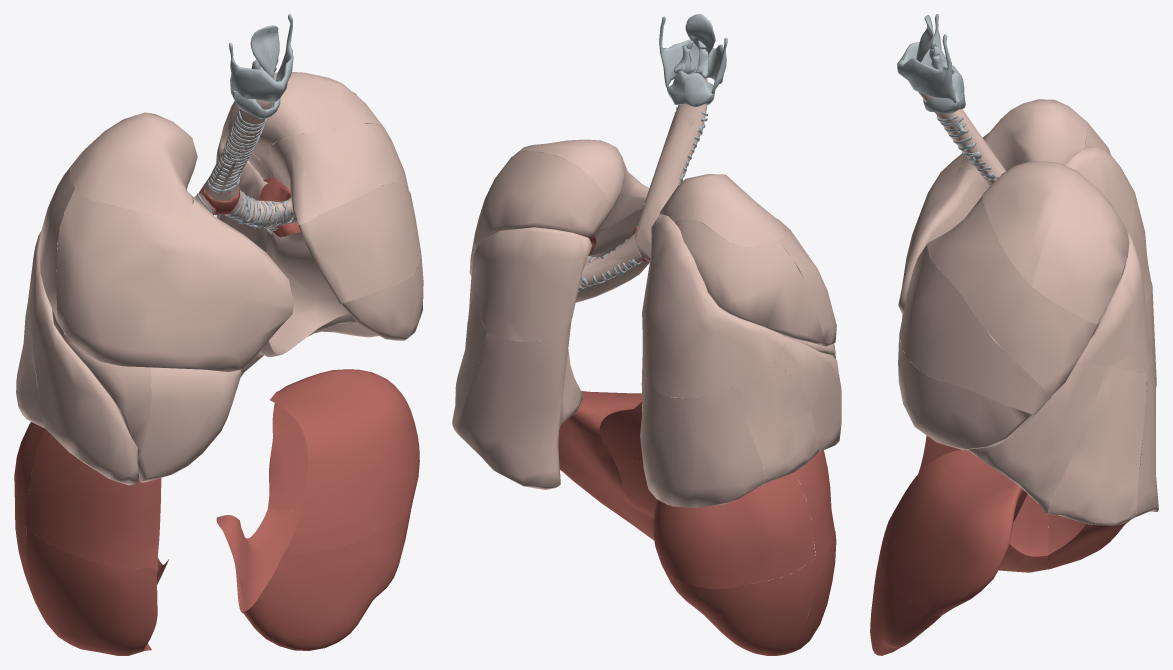
The model's file is adult_female.respiratory.LOD2.glb.
The picture shows the model from 3 angles, left to right: view 1: azimuth 30°, elevation 25°; view 2: azimuth 150°, elevation 25°; view 3: azimuth 270°, elevation 25°; orthographic projection. The views are drawn at different scales.
Visible parts, largest first — view 1: ADULT.FEMALE.RESPIRATORY.ANTERIOR_BRONCHOPULMONARY_SEGM.R, ADULT.FEMALE.RESPIRATORY.SUPEROMEDIAL_SEGMENT.L, ADULT.FEMALE.RESPIRATORY.ANTEROLATERAL_SEGMENT.L, ADULT.FEMALE.RESPIRATORY.ANTEROSUPERIOR_SEGMENT.R, ADULT.FEMALE.RESPIRATORY.ANTEROINFERIOR_SEGMENT.R, ADULT.FEMALE.RESPIRATORY.ANTERIOR_BASAL_BRONCHOPULMONARY_SEG, ADULT.FEMALE.RESPIRATORY.LINGULA_SUPERIOR_BRONCHOPULMONARY_S, ADULT.FEMALE.RESPIRATORY.APICAL_BRONCHOPULMONARY_SEGMENT.R, ADULT.FEMALE.RESPIRATORY.ANTERIOR_BRONCHOPULMONARY_SEGMENT.L, ADULT.FEMALE.RESPIRATORY.MEDIAL_BRONCHOPULMONARY_SEGMENT.R, ADULT.FEMALE.RESPIRATORY.APICAL_BRONCHOPULMONARY_SEGMENT.L, ADULT.FEMALE.RESPIRATORY.MEDIAL_BASAL_BRONCHOPULMONARY_SEGME (+16 smaller); view 2: ADULT.FEMALE.RESPIRATORY.POSTERIOR_BASAL_BRONCHOPULMONARY_SE (×2), ADULT.FEMALE.RESPIRATORY.POSTERIOR_BRONCHOPULMONARY_SEGMENT. (×2), ADULT.FEMALE.RESPIRATORY.SUPERIOR_BRONCHOPULMONARY_SEGMENT.R, ADULT.FEMALE.RESPIRATORY.POSTEROSUPERIOR_SEGMENT.R, ADULT.FEMALE.RESPIRATORY.SUPERIOR_BRONCHOPULMONARY_SEGMENT.L, ADULT.FEMALE.RESPIRATORY.LATERAL_BASAL_BRONCHOPULMONARY_SEGM (×2), ADULT.FEMALE.RESPIRATORY.POSTEROINFERIOR_SEGMENT.R, ADULT.FEMALE.RESPIRATORY.SUPEROMEDIAL_SEGMENT.L, ADULT.FEMALE.RESPIRATORY.APICAL_BRONCHOPULMONARY_SEGMENT.R, ADULT.FEMALE.RESPIRATORY.ANTERIOR_BASAL_BRONCHOPULMONARY_SEG, ADULT.FEMALE.RESPIRATORY.TRACHEA, ADULT.FEMALE.RESPIRATORY.ANTEROLATERAL_SEGMENT.L (+11 smaller); view 3: ADULT.FEMALE.RESPIRATORY.SUPEROMEDIAL_SEGMENT.L, ADULT.FEMALE.RESPIRATORY.ANTERIOR_BRONCHOPULMONARY_SEGMENT.L, ADULT.FEMALE.RESPIRATORY.LINGULA_SUPERIOR_BRONCHOPULMONARY_S, ADULT.FEMALE.RESPIRATORY.LATERAL_BASAL_BRONCHOPULMONARY_SEGM, ADULT.FEMALE.RESPIRATORY.POSTERIOR_BRONCHOPULMONARY_SEGMENT., ADULT.FEMALE.RESPIRATORY.ANTERIOR_BASAL_BRONCHOPULMONARY_SEG, ADULT.FEMALE.RESPIRATORY.LINGULA_INFERIOR_BRONCHOPULMONARY_S, ADULT.FEMALE.RESPIRATORY.APICAL_BRONCHOPULMONARY_SEGMENT.L, ADULT.FEMALE.RESPIRATORY.APICAL_BRONCHOPULMONARY_SEGMENT.R, ADULT.FEMALE.RESPIRATORY.SUPERIOR_BRONCHOPULMONARY_SEGMENT.L, ADULT.FEMALE.RESPIRATORY.ANTERIOR_BRONCHOPULMONARY_SEGM.R, ADULT.FEMALE.RESPIRATORY.SUPERIOR_BRONCHOPULMONARY_SEGMENT.R (+10 smaller).
Part boxes in pixels (x1=…): ADULT.FEMALE.RESPIRATORY.ANTERIOR_BRONCHOPULMONARY_SEGM.R: x1=56, y1=188, x2=293, y2=371; ADULT.FEMALE.RESPIRATORY.SUPEROMEDIAL_SEGMENT.L: x1=267, y1=369, x2=419, y2=553; ADULT.FEMALE.RESPIRATORY.ANTEROLATERAL_SEGMENT.L: x1=216, y1=509, x2=410, y2=650; ADULT.FEMALE.RESPIRATORY.ANTEROSUPERIOR_SEGMENT.R: x1=26, y1=429, x2=161, y2=568; ADULT.FEMALE.RESPIRATORY.ANTEROINFERIOR_SEGMENT.R: x1=26, y1=527, x2=168, y2=655; ADULT.FEMALE.RESPIRATORY.ANTERIOR_BASAL_BRONCHOPULMONARY_SEG: x1=30, y1=274, x2=151, y2=485; ADULT.FEMALE.RESPIRATORY.LINGULA_SUPERIOR_BRONCHOPULMONARY_S: x1=297, y1=182, x2=421, y2=303; ADULT.FEMALE.RESPIRATORY.APICAL_BRONCHOPULMONARY_SEGMENT.R: x1=69, y1=112, x2=197, y2=216; ADULT.FEMALE.RESPIRATORY.ANTERIOR_BRONCHOPULMONARY_SEGMENT.L: x1=269, y1=123, x2=408, y2=224; ADULT.FEMALE.RESPIRATORY.MEDIAL_BRONCHOPULMONARY_SEGMENT.R: x1=137, y1=367, x2=241, y2=482; ADULT.FEMALE.RESPIRATORY.APICAL_BRONCHOPULMONARY_SEGMENT.L: x1=228, y1=72, x2=383, y2=177; ADULT.FEMALE.RESPIRATORY.MEDIAL_BASAL_BRONCHOPULMONARY_SEGME: x1=266, y1=231, x2=348, y2=354; ADULT.FEMALE.RESPIRATORY.POSTERIOR_BASAL_BRONCHOPULMONARY_SE (×2): x1=457, y1=320, x2=764, y2=508; ADULT.FEMALE.RESPIRATORY.POSTERIOR_BRONCHOPULMONARY_SEGMENT. (×2): x1=474, y1=151, x2=822, y2=343; ADULT.FEMALE.RESPIRATORY.SUPERIOR_BRONCHOPULMONARY_SEGMENT.R: x1=642, y1=214, x2=786, y2=397; ADULT.FEMALE.RESPIRATORY.POSTEROSUPERIOR_SEGMENT.R: x1=653, y1=472, x2=815, y2=589; ADULT.FEMALE.RESPIRATORY.SUPERIOR_BRONCHOPULMONARY_SEGMENT.L: x1=472, y1=227, x2=592, y2=342; ADULT.FEMALE.RESPIRATORY.LATERAL_BASAL_BRONCHOPULMONARY_SEGM (×2): x1=452, y1=291, x2=818, y2=484; ADULT.FEMALE.RESPIRATORY.POSTEROINFERIOR_SEGMENT.R: x1=664, y1=558, x2=815, y2=655; ADULT.FEMALE.RESPIRATORY.SUPEROMEDIAL_SEGMENT.L: x1=558, y1=391, x2=642, y2=507; ADULT.FEMALE.RESPIRATORY.APICAL_BRONCHOPULMONARY_SEGMENT.R: x1=659, y1=174, x2=786, y2=246; ADULT.FEMALE.RESPIRATORY.ANTERIOR_BASAL_BRONCHOPULMONARY_SEG: x1=738, y1=335, x2=841, y2=452; ADULT.FEMALE.RESPIRATORY.TRACHEA: x1=635, y1=78, x2=707, y2=261; ADULT.FEMALE.RESPIRATORY.ANTEROLATERAL_SEGMENT.L: x1=562, y1=460, x2=656, y2=540; ADULT.FEMALE.RESPIRATORY.SUPEROMEDIAL_SEGMENT.L: x1=881, y1=449, x2=1027, y2=615; ADULT.FEMALE.RESPIRATORY.ANTERIOR_BRONCHOPULMONARY_SEGMENT.L: x1=927, y1=196, x2=1099, y2=396; ADULT.FEMALE.RESPIRATORY.LINGULA_SUPERIOR_BRONCHOPULMONARY_S: x1=899, y1=244, x2=1051, y2=415; ADULT.FEMALE.RESPIRATORY.LATERAL_BASAL_BRONCHOPULMONARY_SEGM: x1=1047, y1=367, x2=1147, y2=526; ADULT.FEMALE.RESPIRATORY.POSTERIOR_BRONCHOPULMONARY_SEGMENT.: x1=1032, y1=171, x2=1129, y2=324; ADULT.FEMALE.RESPIRATORY.ANTERIOR_BASAL_BRONCHOPULMONARY_SEG: x1=967, y1=362, x2=1106, y2=513; ADULT.FEMALE.RESPIRATORY.LINGULA_INFERIOR_BRONCHOPULMONARY_S: x1=898, y1=331, x2=1033, y2=450; ADULT.FEMALE.RESPIRATORY.APICAL_BRONCHOPULMONARY_SEGMENT.L: x1=982, y1=161, x2=1076, y2=286; ADULT.FEMALE.RESPIRATORY.APICAL_BRONCHOPULMONARY_SEGMENT.R: x1=960, y1=99, x2=1088, y2=170; ADULT.FEMALE.RESPIRATORY.SUPERIOR_BRONCHOPULMONARY_SEGMENT.L: x1=1076, y1=232, x2=1152, y2=372; ADULT.FEMALE.RESPIRATORY.ANTERIOR_BRONCHOPULMONARY_SEGM.R: x1=898, y1=153, x2=989, y2=314; ADULT.FEMALE.RESPIRATORY.SUPERIOR_BRONCHOPULMONARY_SEGMENT.R: x1=1065, y1=147, x2=1152, y2=302.
Size of the model in its own units: 0.2554 by 0.4013 by 0.169.
